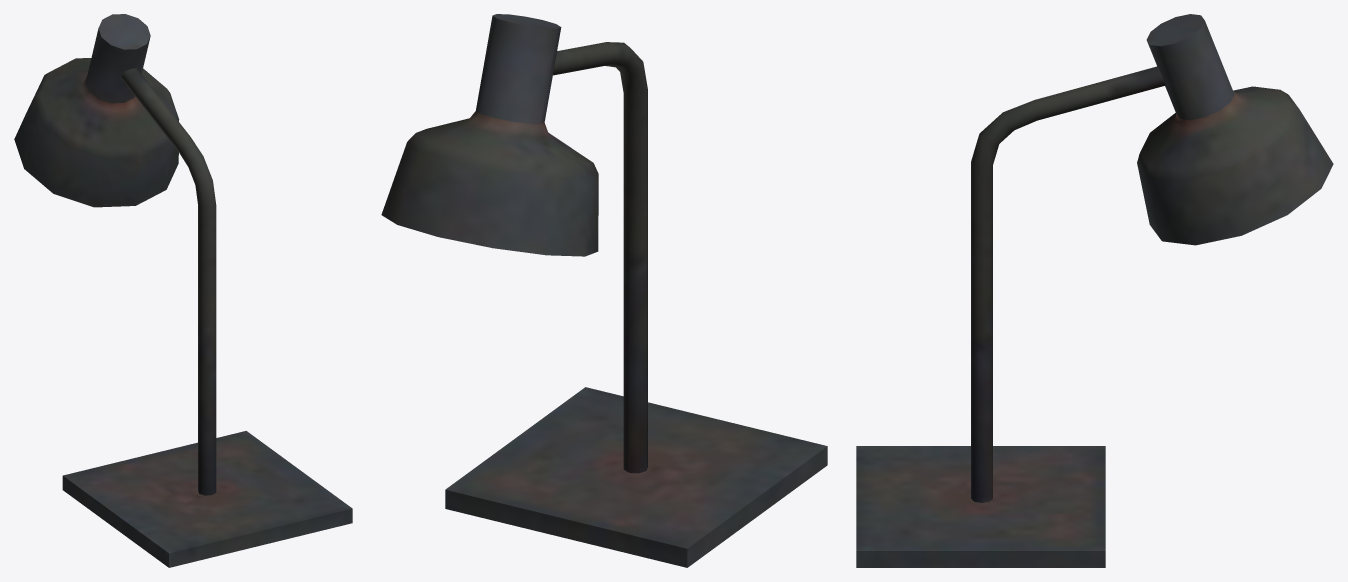
The model's file is TableLamp.FBX.
3 views of the same model, side by side, from view 1: azimuth 30°, elevation 25°; view 2: azimuth 150°, elevation 25°; view 3: azimuth 270°, elevation 25° (orthographic). The views are drawn at different scales.
Parts seen in each view (by area): view 1: TableLamp; view 2: TableLamp; view 3: TableLamp.
Part boxes in pixels (bbox=[...]): TableLamp: bbox=[14, 14, 352, 567]; TableLamp: bbox=[381, 14, 827, 567]; TableLamp: bbox=[856, 14, 1333, 567].
Size of the model in its own units: 19.47 by 42.79 by 37.4.
